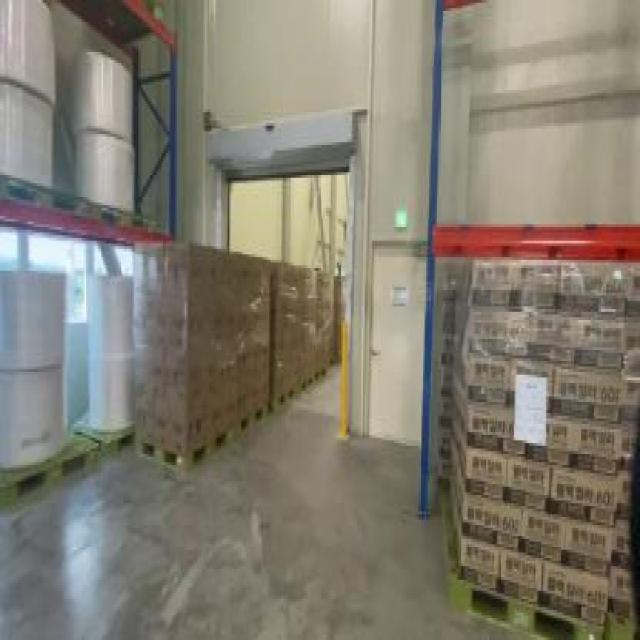box: (438, 257, 638, 637), (128, 238, 272, 476), (274, 257, 332, 424)
white_roll: (0, 274, 74, 490), (1, 2, 70, 210), (69, 52, 143, 230), (77, 271, 138, 457)
